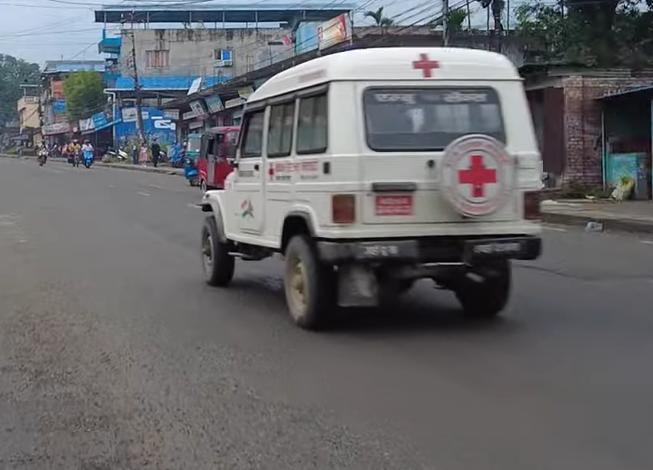ambulance: (194, 43, 557, 336)
auto_rickshaw: (197, 119, 242, 195)
